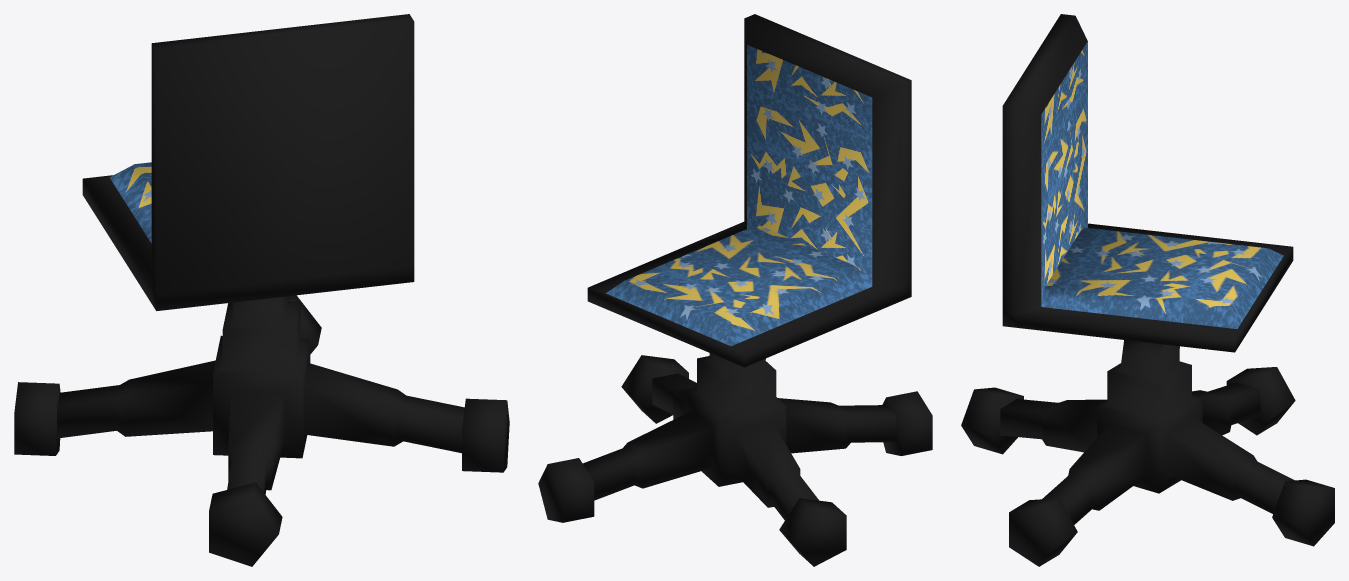
Rendered from Chair.fbx.
3 views of the same model, side by side, from view 1: azimuth 30°, elevation 25°; view 2: azimuth 150°, elevation 25°; view 3: azimuth 270°, elevation 25° (orthographic). The views are drawn at different scales.
Parts seen in each view (by area): view 1: Cube; view 2: Cube; view 3: Cube.
Part boxes in pixels (left/top/right/bottom): Cube: left=14, top=14, right=509, bottom=566; Cube: left=538, top=14, right=932, bottom=566; Cube: left=961, top=14, right=1334, bottom=566.
Bounding box in the file's own units: 98.48 × 120 × 98.48.
1 material, 1 textured.
